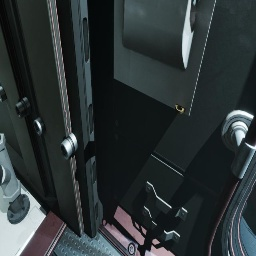SafetySwitchPanel ,: (114, 0, 216, 116)
